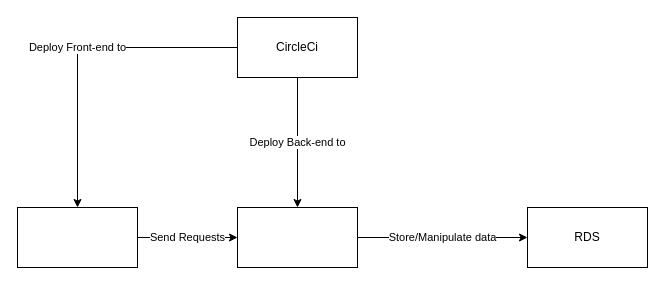
The diagram is 665 pixels wide and 285 high, and some of its shapes have lost their labels. Each missing label, with the centre of its shape:
EB: the point at 297,237
S3: the point at 77,237
